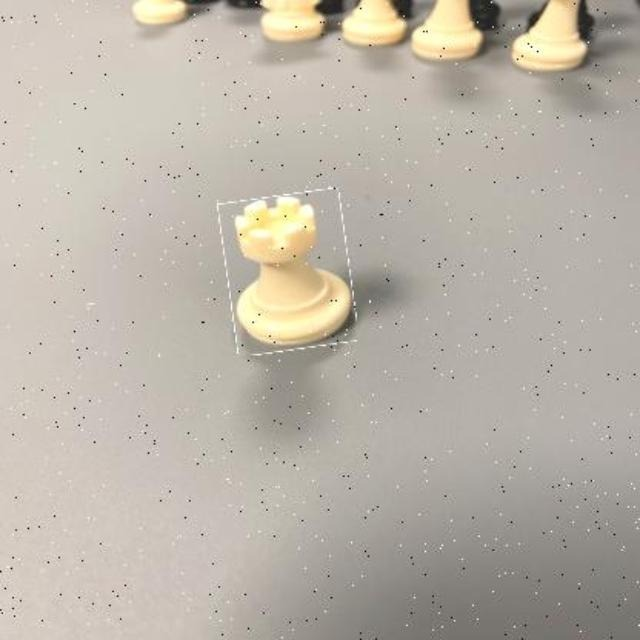white-rook: (222, 192, 354, 352)
